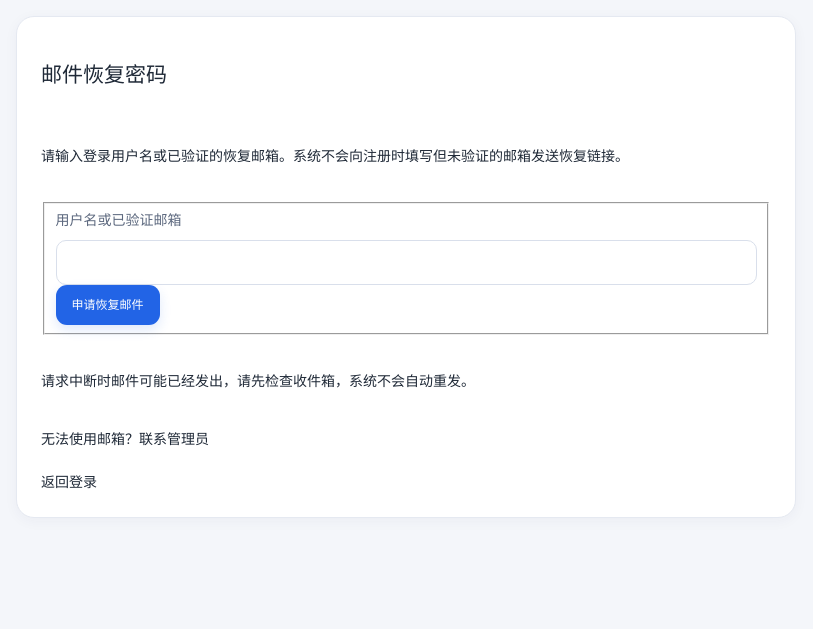
Test case: submits the anonymous form by keyboard, shows generic accepted and does not persist identity
This screenshot has width=813, height=629.
Type "first-user" into the field labelled "用户名或已验证邮箱". click: (406, 262)
box: [56,240,756,285]
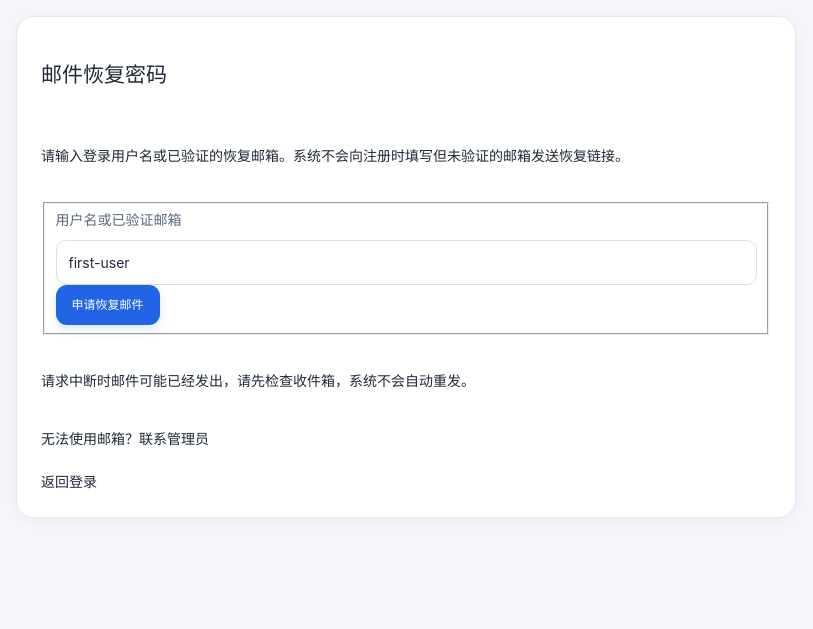
Submit the form "申请恢复邮件", box [41,202,771,335]
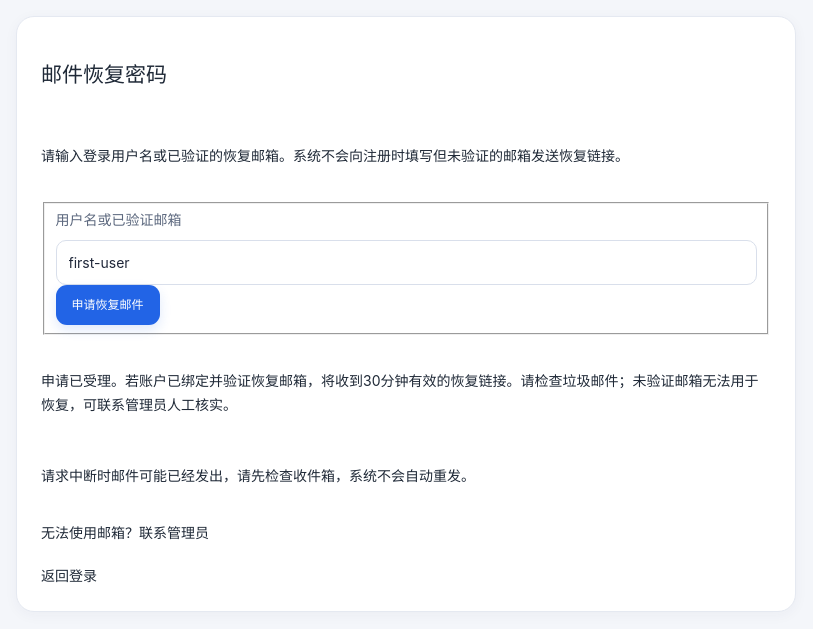
Now the text "申请已受理。若账户已绑定并验证恢复邮箱，将收到30分钟有效的恢复链接。请检查垃圾邮件；未验证邮箱无法用于恢复，可联系管理员人工核实。" is shown, box [41,369,771,416]
